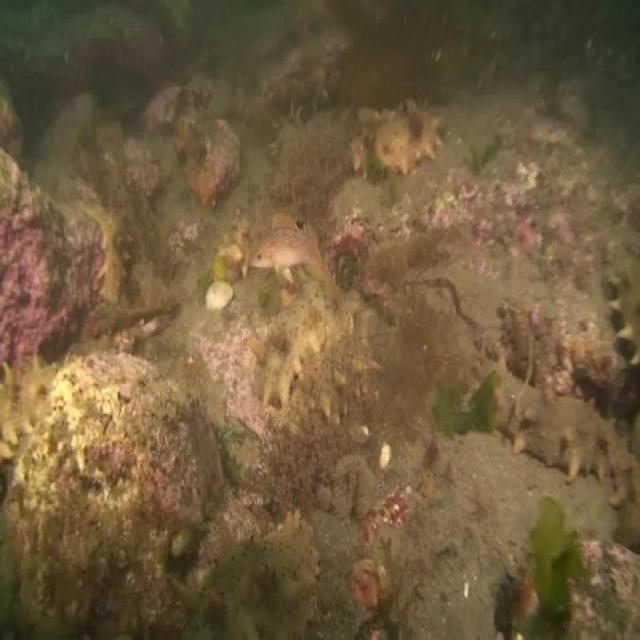holothurian: (170, 507, 320, 640), (480, 357, 633, 485), (249, 277, 344, 403), (293, 326, 371, 425), (0, 360, 57, 466), (365, 101, 439, 169), (89, 196, 131, 307), (601, 256, 640, 360)
scallop: (204, 278, 234, 313), (349, 427, 370, 444), (380, 444, 390, 468)
